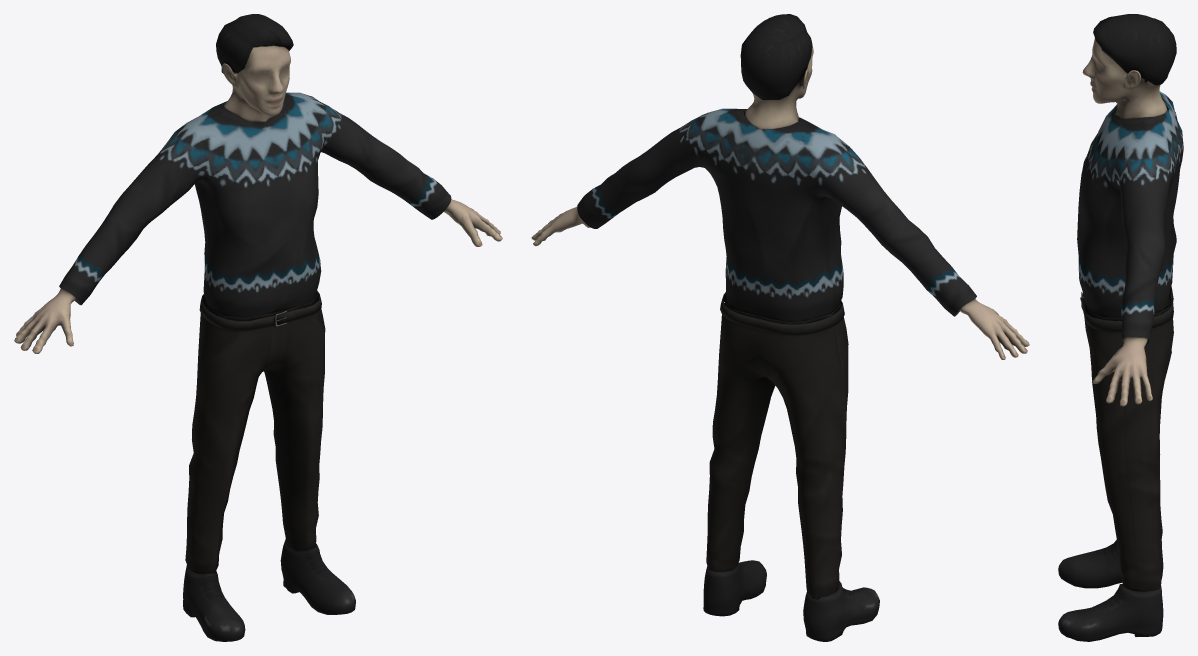
Rendered from ggall.obj.
3 views of the same model, side by side, from view 1: azimuth 30°, elevation 25°; view 2: azimuth 150°, elevation 25°; view 3: azimuth 270°, elevation 25° (orthographic). The views are drawn at different scales.
Visible parts, largest first — view 1: gg_gg_body_body_PM3D_Sphere3D2.001; view 2: gg_gg_body_body_PM3D_Sphere3D2.001; view 3: gg_gg_body_body_PM3D_Sphere3D2.001.
Boxes of the visible parts, x1,y1,x2,y2 form: gg_gg_body_body_PM3D_Sphere3D2.001: (14, 14, 502, 641); gg_gg_body_body_PM3D_Sphere3D2.001: (531, 14, 1029, 641); gg_gg_body_body_PM3D_Sphere3D2.001: (1058, 14, 1183, 641).
Bounding box in the file's own units: 2.98 × 3.49 × 0.6721.
1 material, 1 textured.
